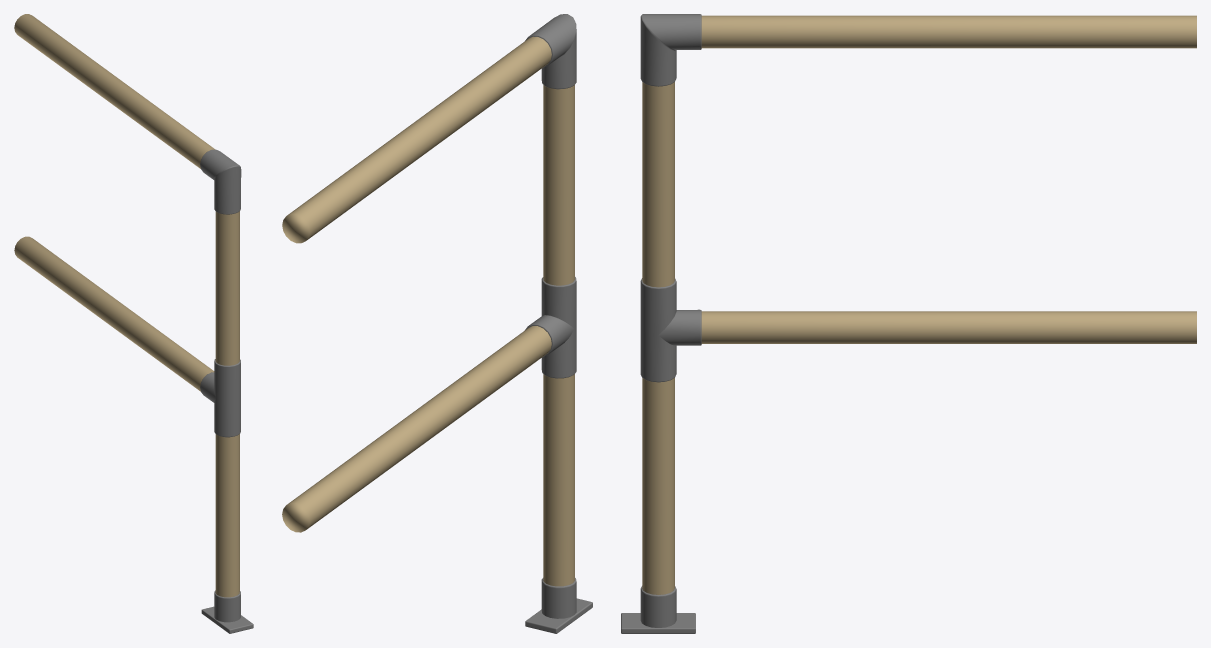
The model's file is railt_high.fbx.
3 views of the same model, side by side, from view 1: azimuth 30°, elevation 25°; view 2: azimuth 150°, elevation 25°; view 3: azimuth 270°, elevation 25° (orthographic). The views are drawn at different scales.
Parts seen in each view (by area): view 1: Line026; view 2: Line026; view 3: Line026.
Boxes of the visible parts, box(x1,y1,x2,y2) form: Line026: box(14, 14, 253, 633); Line026: box(282, 14, 592, 633); Line026: box(621, 14, 1196, 633).
Size of the model in its own units: 2.3 by 41.3 by 35.3.
